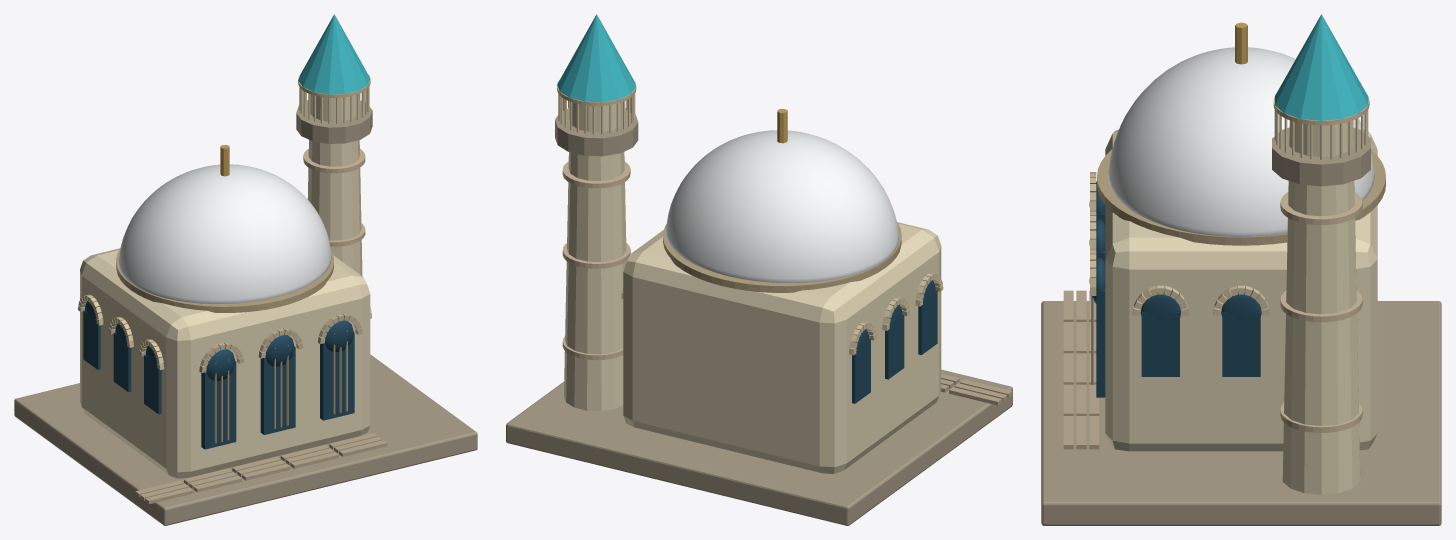
The model's file is mosque.glb.
The picture shows the model from 3 angles, left to right: view 1: azimuth 30°, elevation 25°; view 2: azimuth 150°, elevation 25°; view 3: azimuth 270°, elevation 25°; orthographic projection. The views are drawn at different scales.
Visible parts, largest first — view 1: Mosque; view 2: Mosque; view 3: Mosque.
Part boxes in pixels (<box>): Mosque: <box>14,14,477,525</box>; Mosque: <box>506,14,1012,525</box>; Mosque: <box>1041,14,1441,525</box>.
Bounding box in the file's own units: 0.9119 × 1 × 0.7426.
